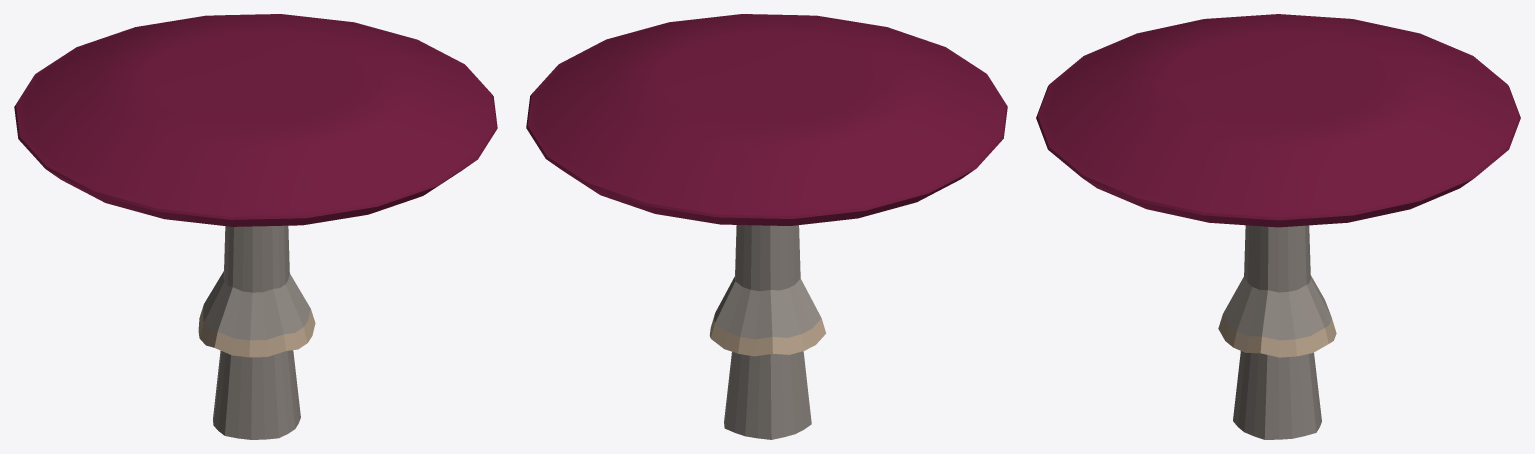
Rendered from mushroomtall1.fbx.
The picture shows the model from 3 angles, left to right: view 1: azimuth 30°, elevation 25°; view 2: azimuth 150°, elevation 25°; view 3: azimuth 270°, elevation 25°; orthographic projection.
Visible parts, largest first — view 1: mushroomtall1; view 2: mushroomtall1; view 3: mushroomtall1.
Part boxes in pixels (x1,y1,x2,y2): mushroomtall1: (14,14,497,439); mushroomtall1: (526,14,1007,439); mushroomtall1: (1036,14,1520,439).
Size of the model in its own units: 896 by 695 by 896.
